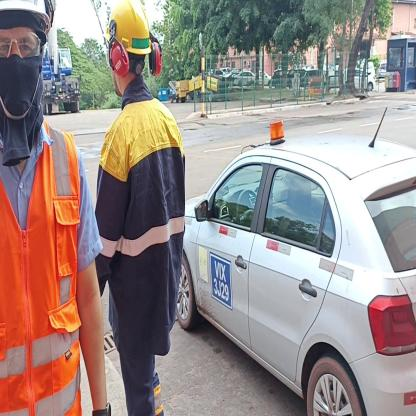Balaclava: (0, 9, 43, 137)
C_eletrica: (0, 126, 86, 415), (105, 103, 182, 342)
Capacete: (107, 0, 152, 51)
